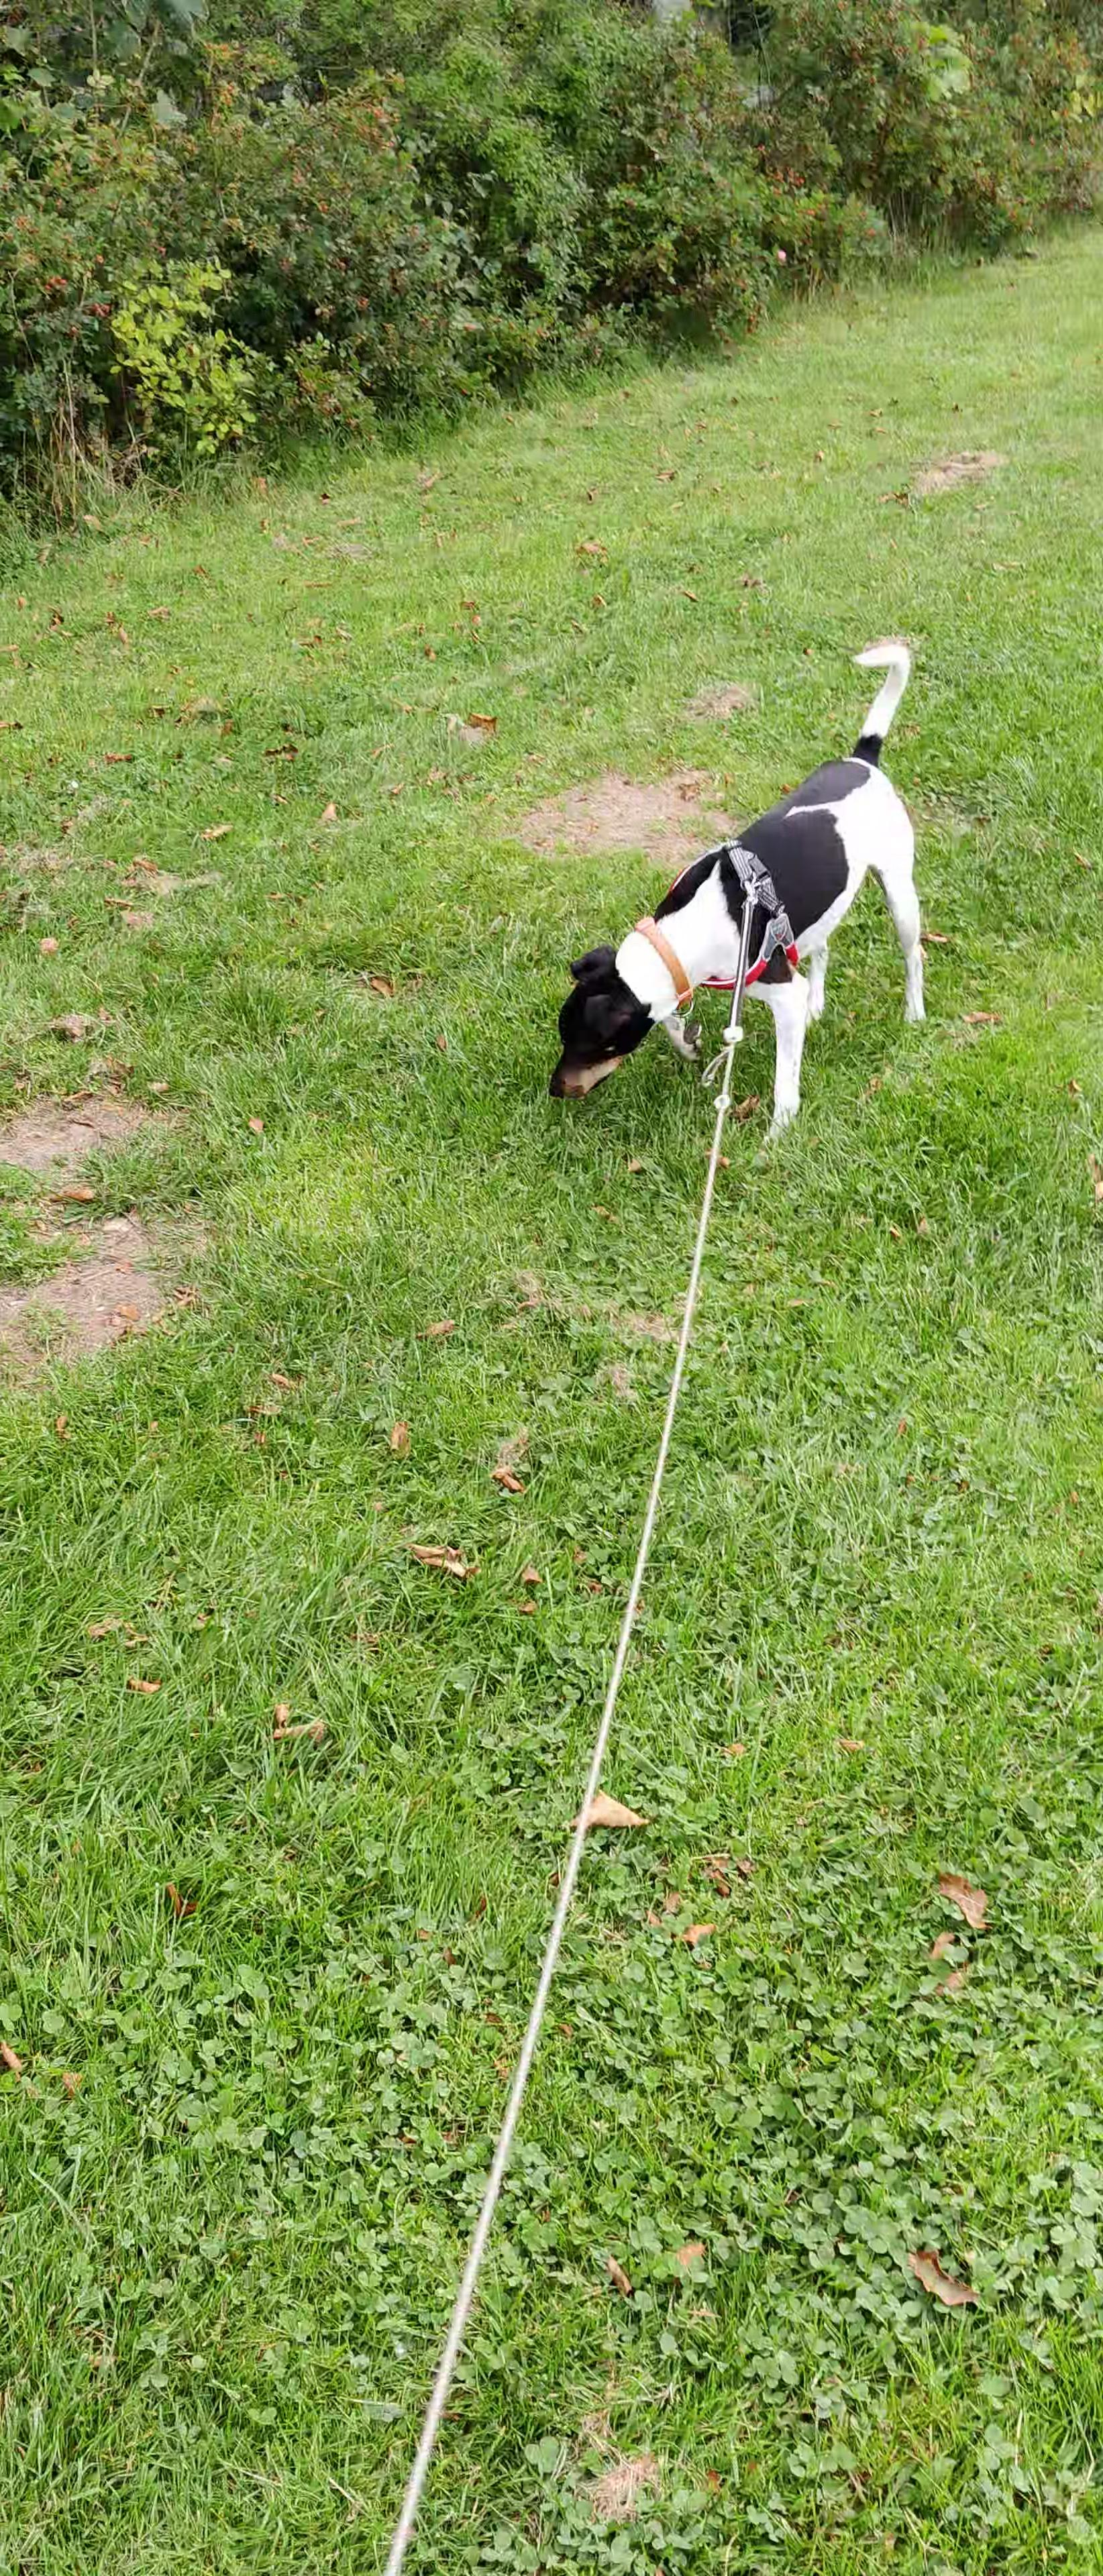Dog: (541, 637, 934, 1150)
